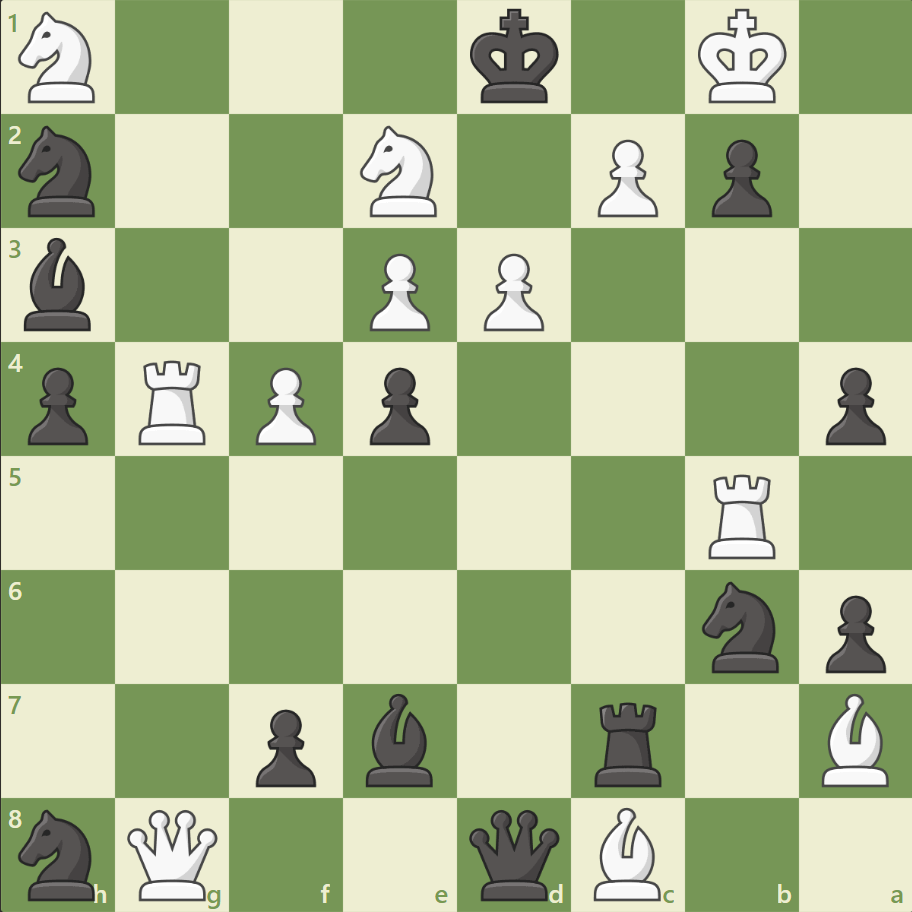B: (585, 801, 669, 904), (812, 687, 896, 790)
K: (692, 4, 792, 112)
N: (351, 121, 449, 223), (11, 7, 108, 110)
P: (247, 359, 322, 450), (474, 246, 549, 337), (361, 246, 435, 337), (588, 132, 662, 223)
Q: (124, 804, 223, 903)
R: (700, 466, 783, 563), (133, 352, 215, 449)
b: (358, 687, 442, 790), (17, 233, 101, 336)
k: (465, 4, 565, 112)
n: (11, 802, 108, 904), (692, 575, 789, 677), (11, 121, 108, 223)
p: (247, 700, 322, 791), (20, 359, 95, 450), (701, 132, 776, 223), (815, 586, 889, 677), (815, 359, 889, 450), (361, 359, 435, 450)
q: (464, 804, 563, 903)
r: (587, 693, 670, 790)
